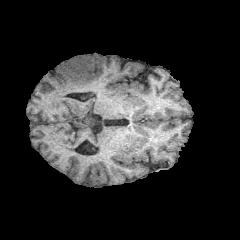glioma: (54, 55, 103, 86)
